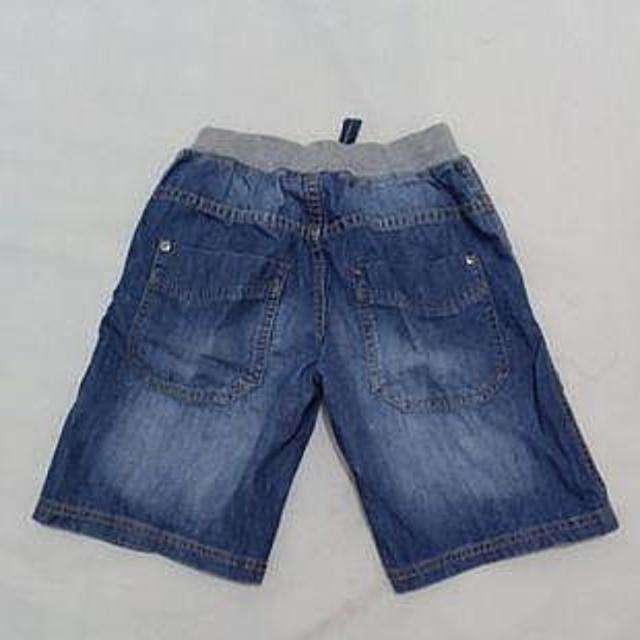SHORT: (23, 112, 632, 605)
